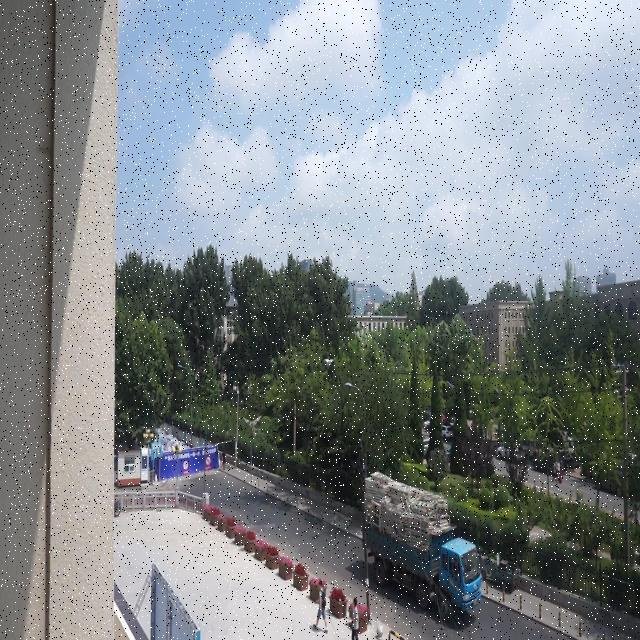UAV: (324, 359, 333, 366)
